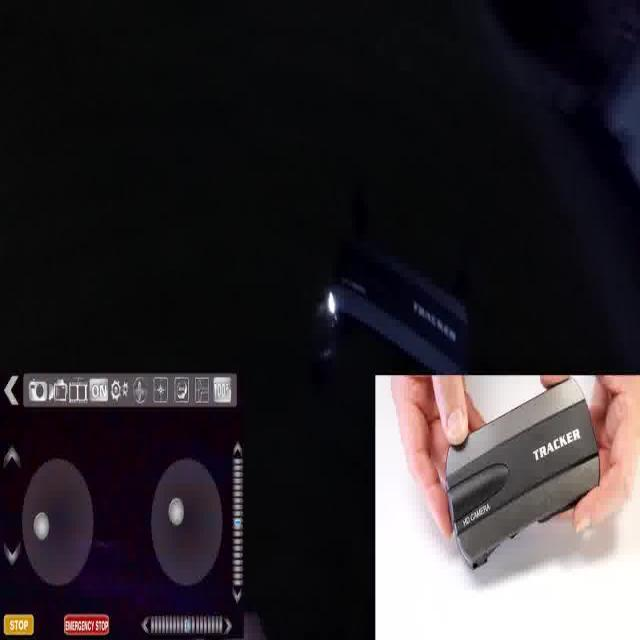drones: (293, 168, 489, 423)
